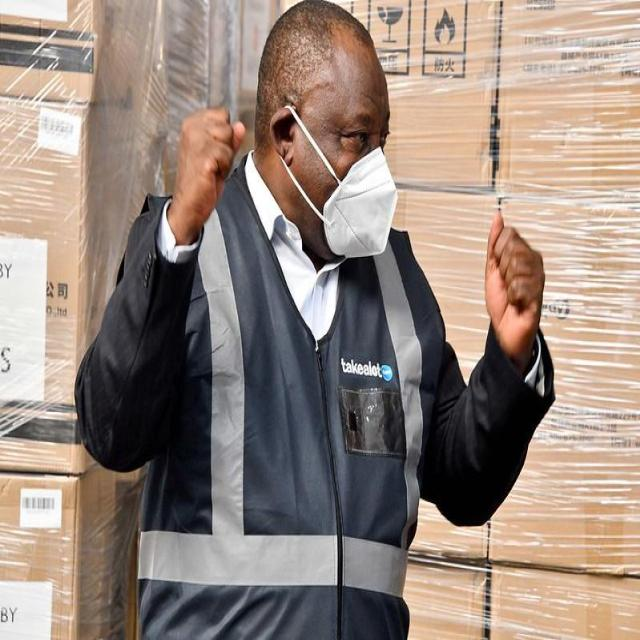Mask: (326, 143, 396, 259)
